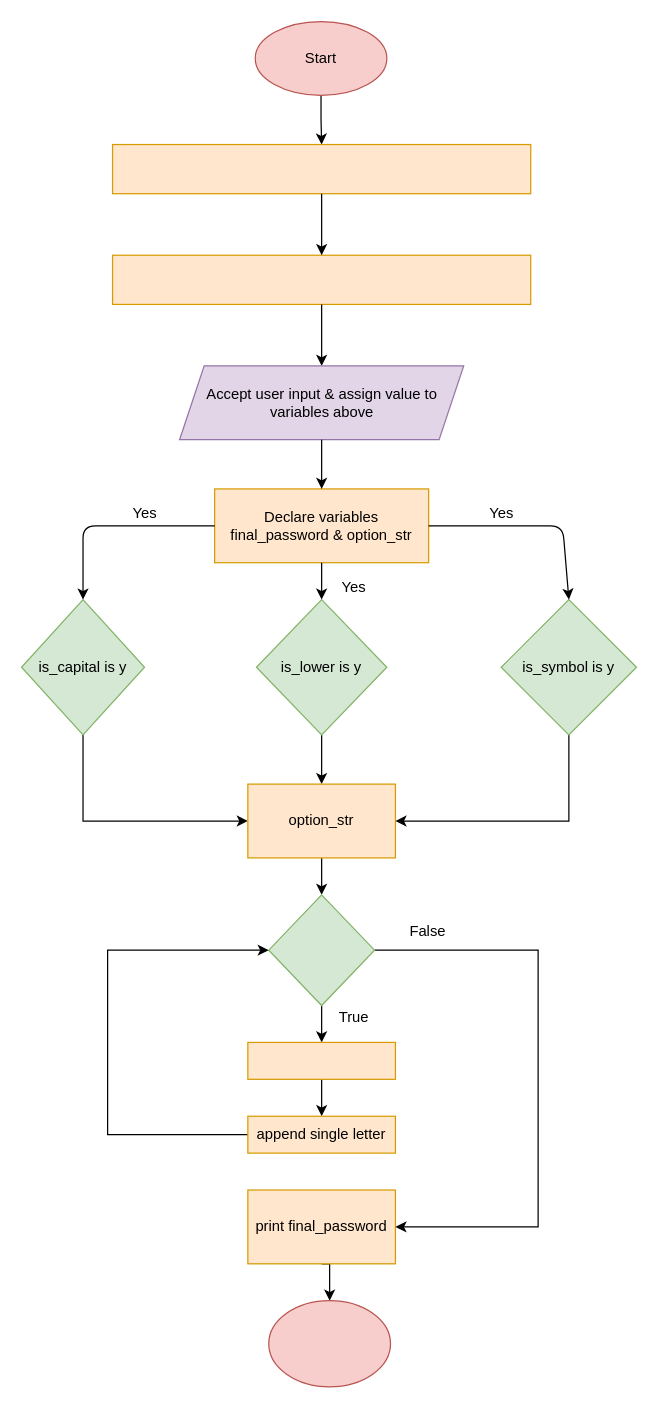
Image size: 658x1408. Some labels were removed from this diagram. Here are the shapes that lost their labels. From the top down, the centre of each, then its label:
At [321,168]: "Declare variables digits, capital_letter, lower_case & symbol".
At [321,279]: "Print welcome message".
At [321,950]: "Condition range".
At [321,1060]: "get random_index".
At [329,1343]: "Stop".
